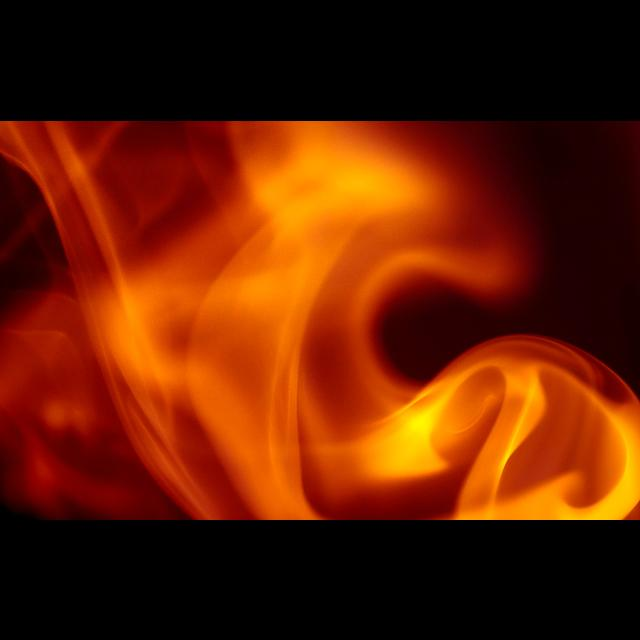fire: (0, 120, 640, 520)
